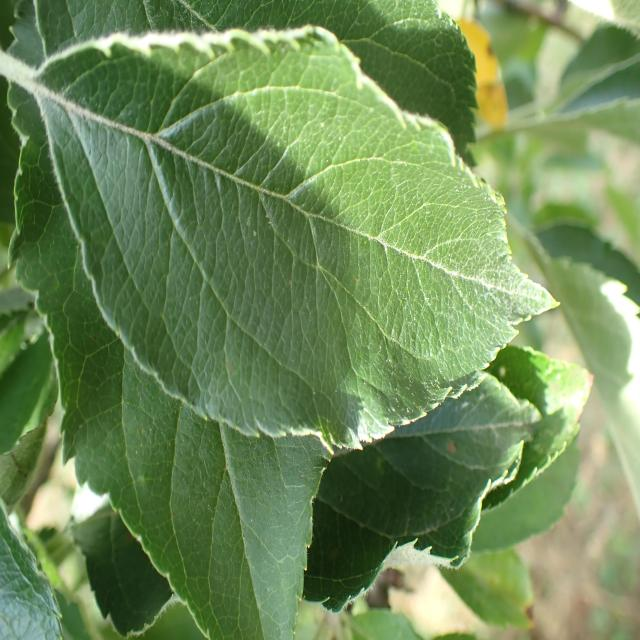healthy: (34, 22, 560, 452), (300, 348, 542, 613), (119, 352, 332, 640), (0, 500, 64, 640)
